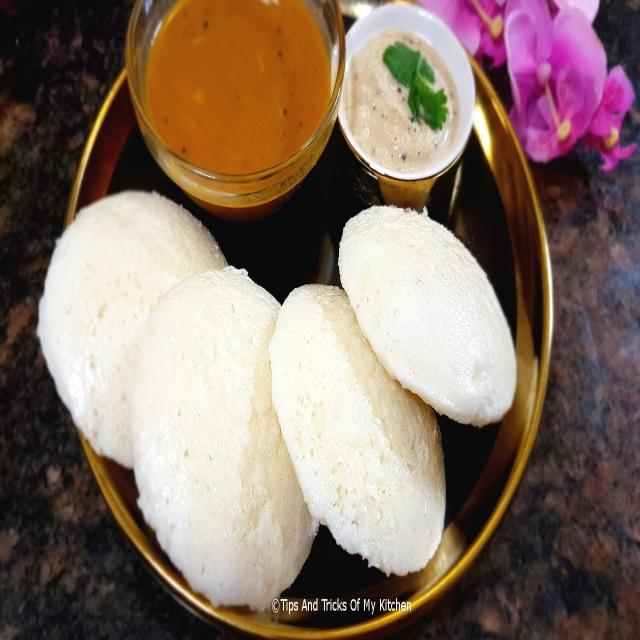chutney: (347, 26, 463, 172)
idli: (82, 200, 506, 575)
sambhar: (146, 0, 334, 176)
